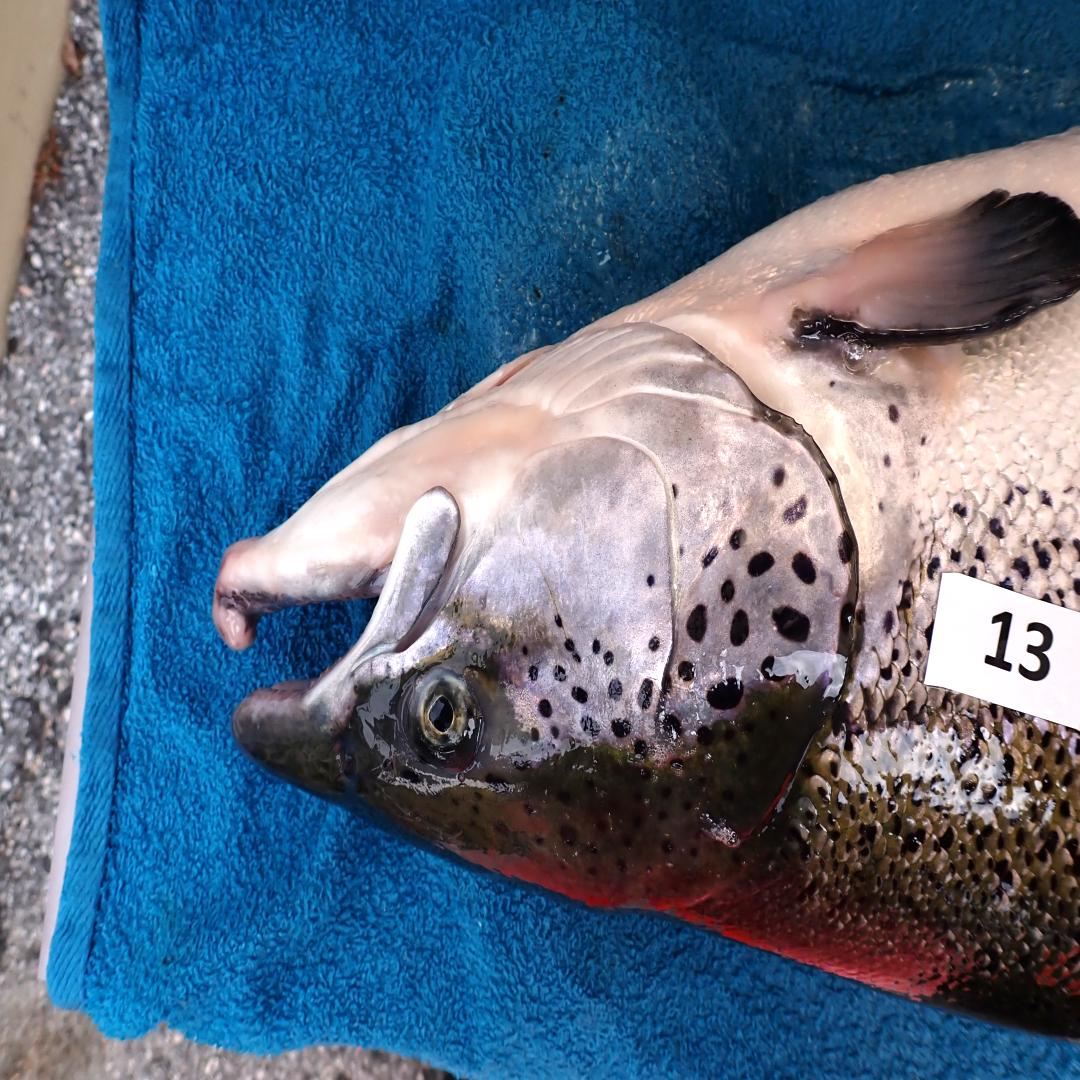roi: (459, 315, 855, 769)
